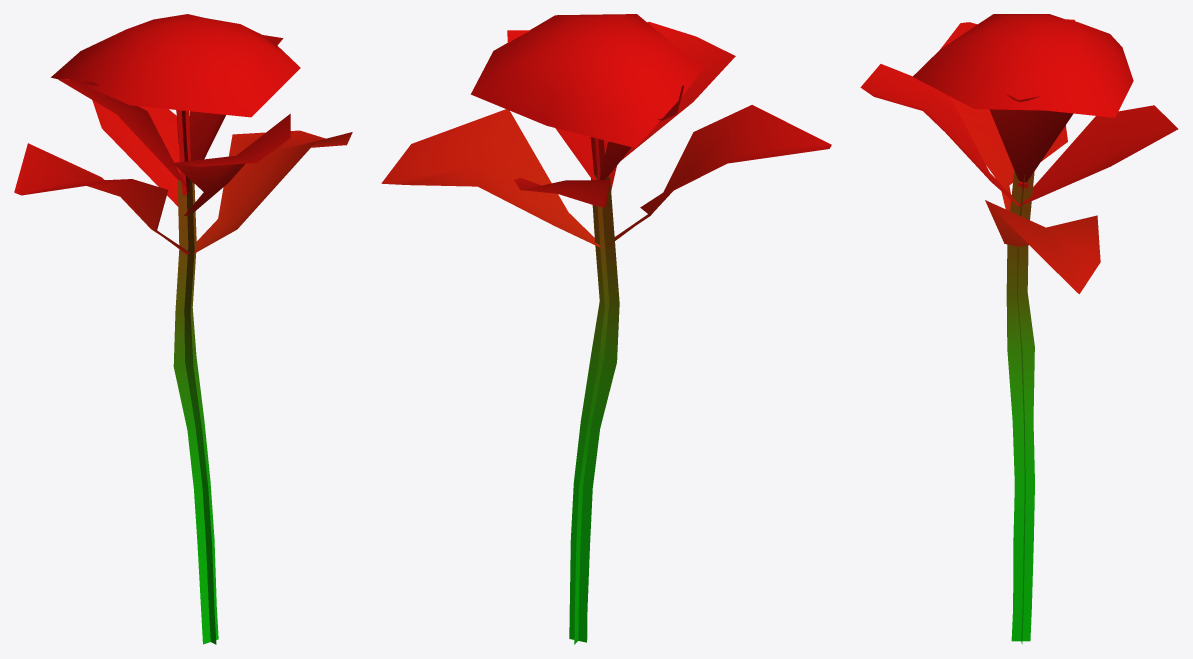
File: Var10_LOD4.fbx
The picture shows the model from 3 angles, left to right: view 1: azimuth 30°, elevation 25°; view 2: azimuth 150°, elevation 25°; view 3: azimuth 270°, elevation 25°; orthographic projection. The views are drawn at different scales.
Parts seen in each view (by area): view 1: _1krn_Var10_LOD4; view 2: _1krn_Var10_LOD4; view 3: _1krn_Var10_LOD4.
Boxes of the visible parts, box(x1,y1,x2,y2) form: _1krn_Var10_LOD4: box(14, 14, 352, 644); _1krn_Var10_LOD4: box(381, 14, 831, 644); _1krn_Var10_LOD4: box(860, 14, 1178, 644).
Bounding box in the file's own units: 30.78 × 46.66 × 22.25.
